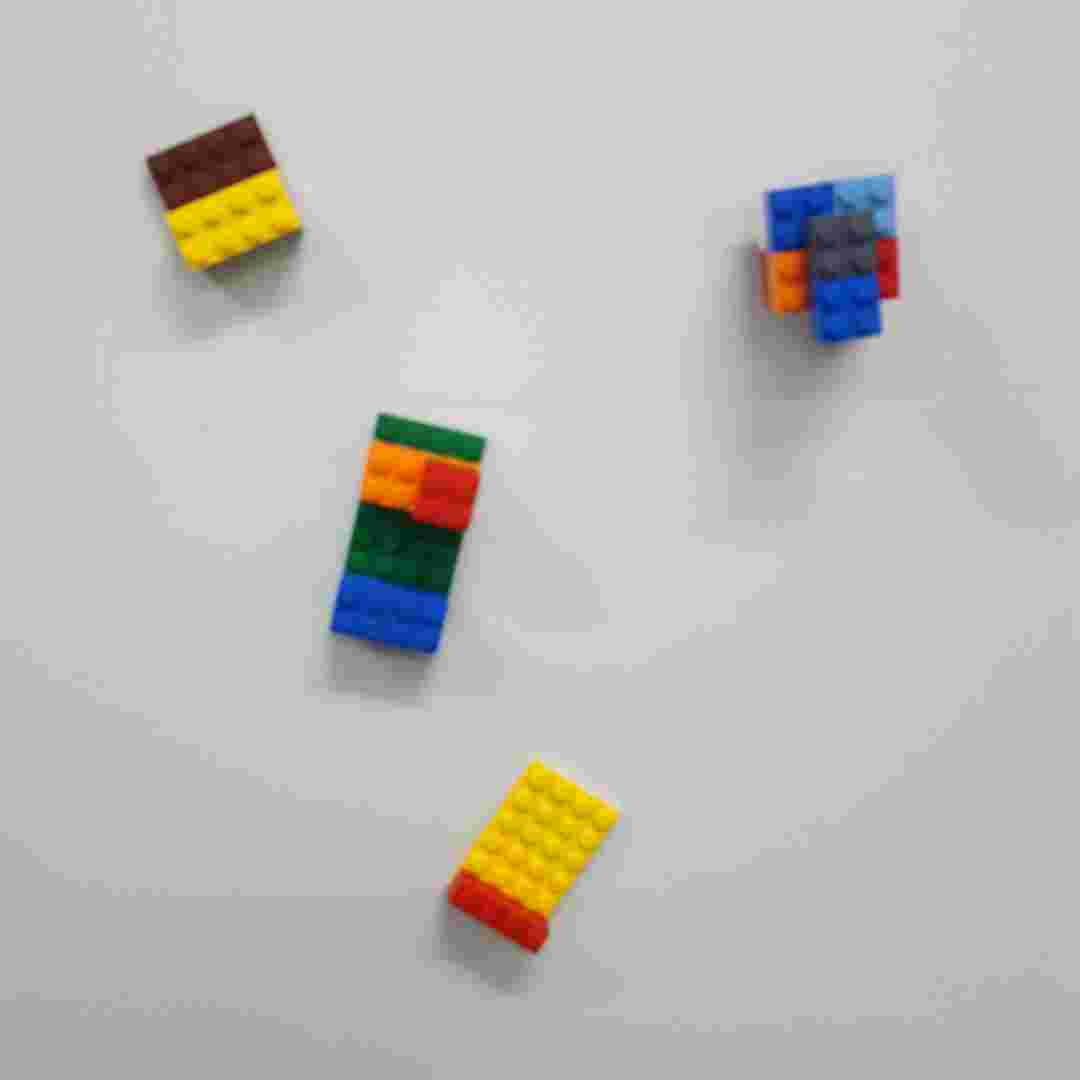LEGO: (327, 406, 493, 660), (438, 759, 627, 960), (142, 108, 308, 282), (757, 171, 909, 351)
